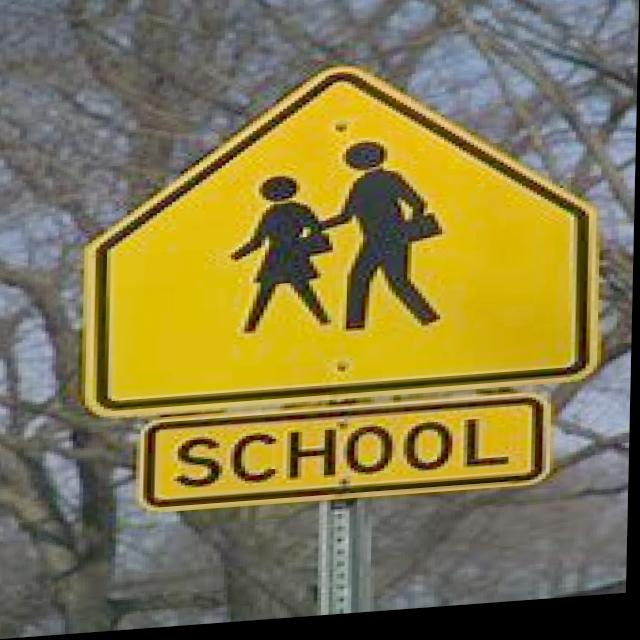SCHOOL_AHEAD: (75, 65, 611, 418)
